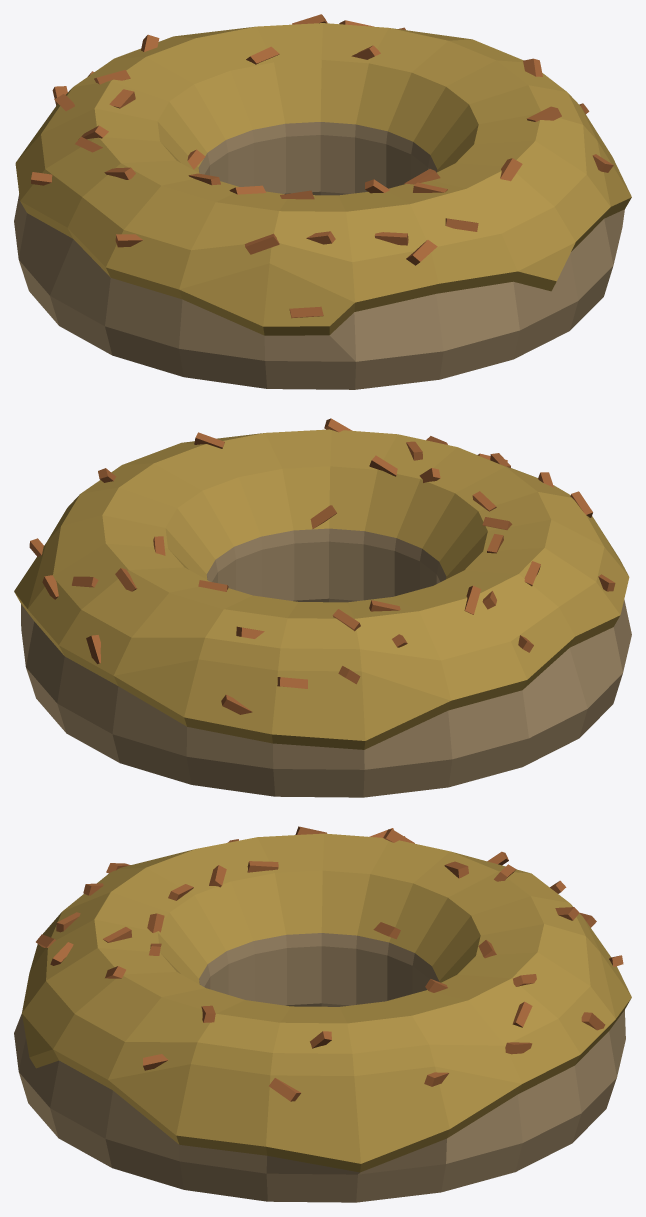
The model's file is quaternius-ultimate-food-donut-2.glb.
3 views of the same model, one above another, from view 1: azimuth 30°, elevation 25°; view 2: azimuth 150°, elevation 25°; view 3: azimuth 270°, elevation 25° (orthographic).
Parts seen in each view (by area): view 1: Donut2; view 2: Donut2; view 3: Donut2.
Part boxes in pixels (box(x1,y1,x2,y2)): Donut2: box(14, 14, 631, 389); Donut2: box(14, 418, 631, 797); Donut2: box(14, 826, 631, 1202).
Bounding box in the file's own units: 0.8795 × 0.2914 × 0.8673.
